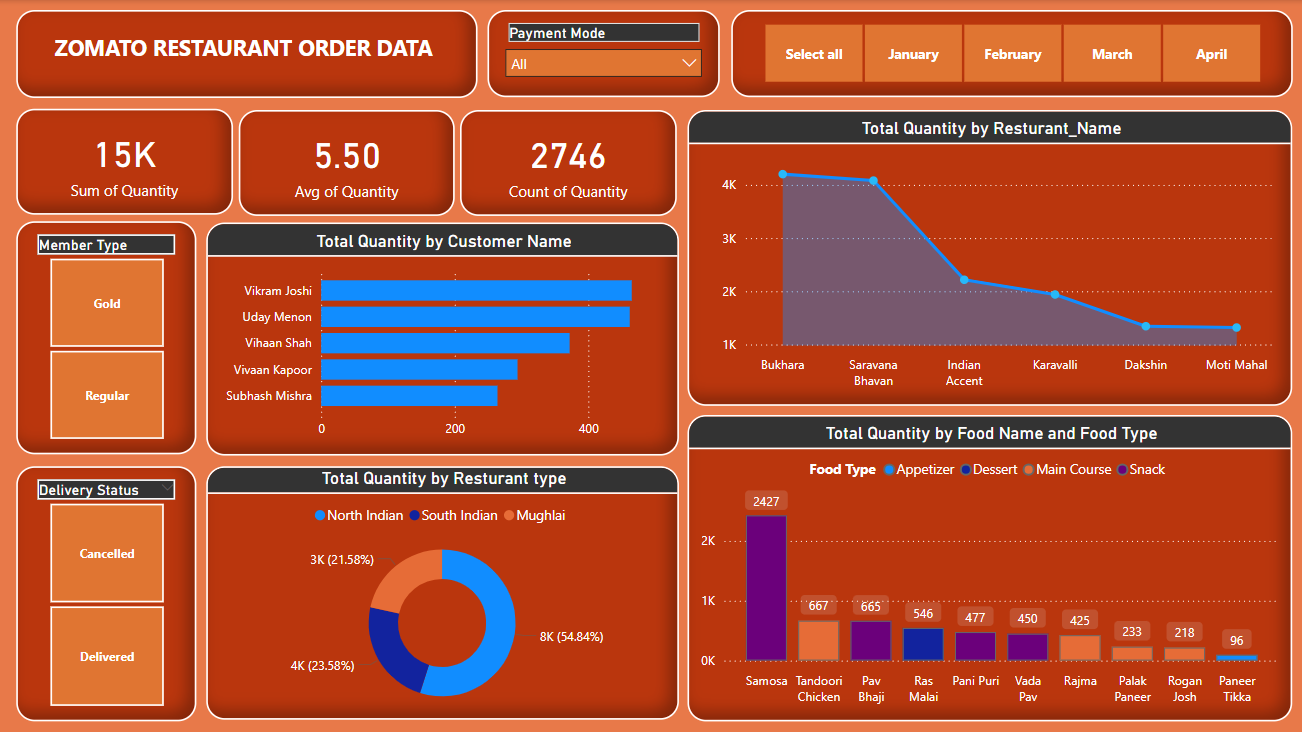

This screenshot's page, from the dashboard's own definition file:
{"tool":"powerbi","page":{"name":"Dashboard_1","canvas":[1280,720],"ordinal":0},"visuals":[{"type":"lineStackedColumnComboChart","title":"Total Quantity by Food Name and Food Type","fields":{"Category":["Food_Details.Food Name"],"Y":["Order_data 4 Months.quantity"],"Series":["Food_Details.Food_Type"]},"box":[674.9,407.4,593.9,300.6],"z":0},{"type":"clusteredBarChart","fields":{"Category":["Customer Details.customer_name"],"Y":["Order_data 4 Months.quantity"]},"box":[203,219,463.8,229],"z":1000},{"type":"donutChart","fields":{"Category":["Resturant_Details.Resturant_type"],"Y":["Order_data 4 Months.quantity"]},"box":[203,458,463.8,249],"z":2000},{"type":"areaChart","fields":{"Category":["Resturant_Details.Resturant_Name"],"Y":["Order_data 4 Months.quantity"]},"box":[674.9,108,593.9,290],"z":3000},{"type":"slicer","fields":{"Values":["Order_data 4 Months.payment_method"]},"box":[478.5,9.8,228.2,85.9],"z":4000},{"type":"slicer","fields":{"Values":["Order_data 4 Months.orderDate.Variation.Date Hierarchy.Month"]},"box":[717.8,9.8,550.9,85.9],"z":5000},{"type":"textbox","box":[16,9.8,452.8,86],"z":6000},{"type":"slicer","fields":{"Values":["Customer Details.member_Type"]},"box":[16,217.2,176.7,229],"z":7000},{"type":"slicer","fields":{"Values":["Order_data 4 Months.deliver_status"]},"box":[16,457.7,176.7,250.3],"z":8000},{"type":"card","fields":{"Values":["Order_data 4 Months.quantity"]},"box":[16,106.7,213,104.3],"z":9000},{"type":"card","fields":{"Values":["Order_data 4 Months.quantity"]},"box":[234,108,212.3,104.3],"z":10000},{"type":"card","fields":{"Values":["Order_data 4 Months.quantity"]},"box":[451.5,108,213,104.3],"z":11000}]}

Visuals, with their boxes in screenshot pixels (x1, y1, x2, y2), scaled from the page's 1280x720 canvas onto the 1302x732 screenshot:
"Total Quantity by Food Name and Food Type" lineStackedColumnComboChart: rect(686, 414, 1291, 720)
clusteredBarChart - Customer Details.customer_name x Order_data 4 Months.quantity: rect(206, 223, 678, 455)
donutChart - Resturant_Details.Resturant_type x Order_data 4 Months.quantity: rect(206, 466, 678, 719)
areaChart - Resturant_Details.Resturant_Name x Order_data 4 Months.quantity: rect(686, 110, 1291, 405)
slicer - Order_data 4 Months.payment_method: rect(487, 10, 719, 97)
slicer - Order_data 4 Months.orderDate.Variation.Date Hierarchy.Month: rect(730, 10, 1291, 97)
textbox: rect(16, 10, 477, 97)
slicer - Customer Details.member_Type: rect(16, 221, 196, 454)
slicer - Order_data 4 Months.deliver_status: rect(16, 465, 196, 720)
card - Order_data 4 Months.quantity: rect(16, 108, 233, 215)
card - Order_data 4 Months.quantity: rect(238, 110, 454, 216)
card - Order_data 4 Months.quantity: rect(459, 110, 676, 216)
